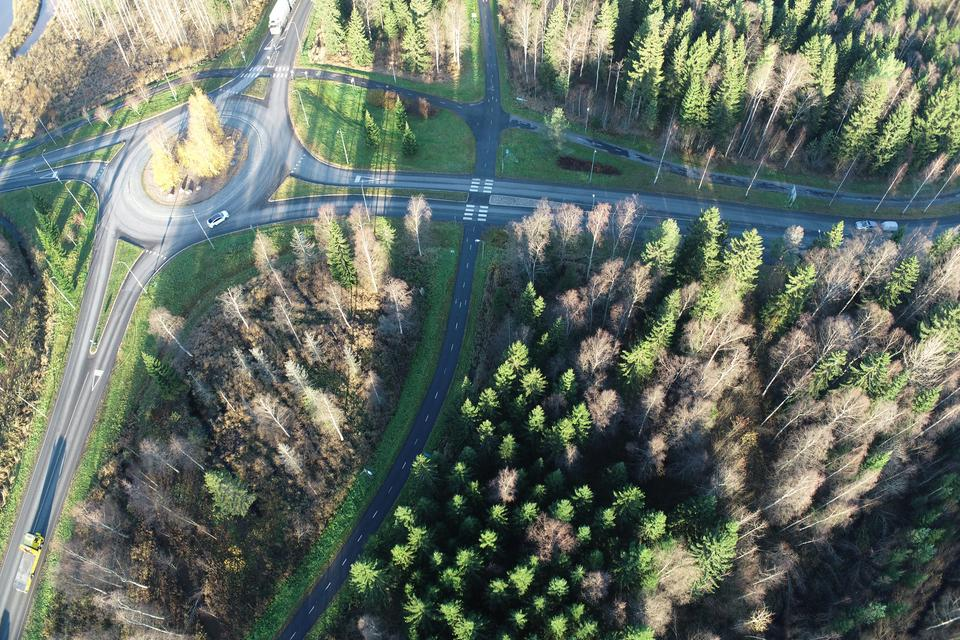intersection: (449, 164, 504, 244), (224, 58, 303, 86)
roundabout: (74, 91, 319, 286)
